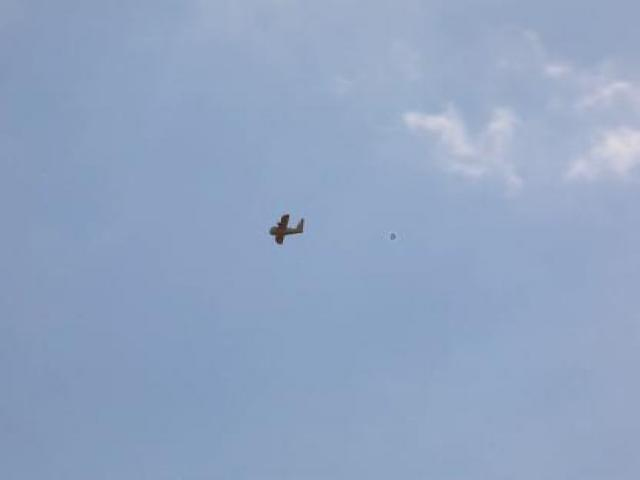uav: (266, 210, 305, 246)
